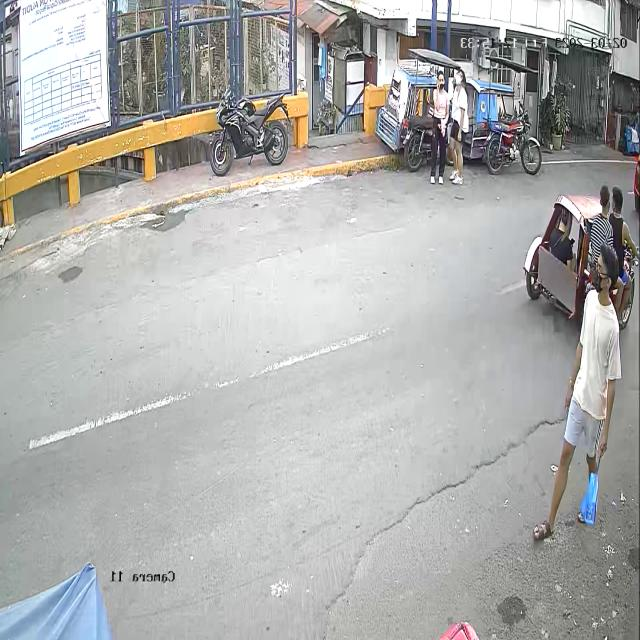garbage_dumping: (578, 467, 600, 526)
